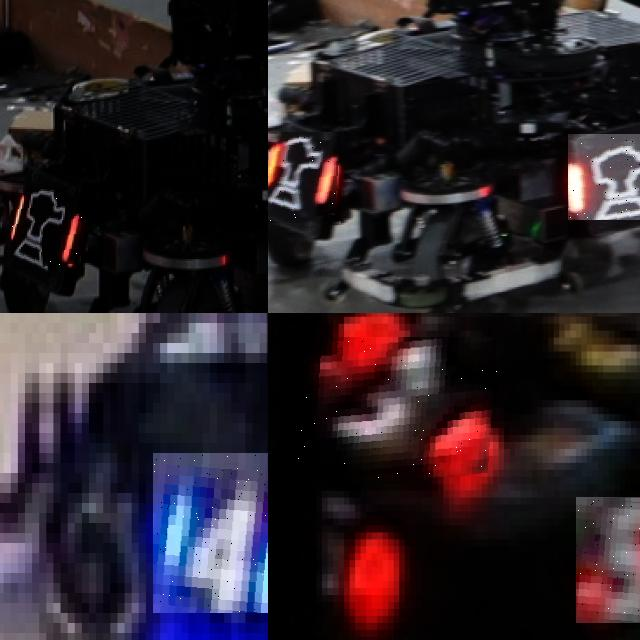B4: (152, 453, 268, 613)
R5: (294, 337, 498, 491), (575, 497, 640, 622)
Rs: (268, 132, 340, 224), (11, 187, 86, 270), (568, 134, 640, 219)
